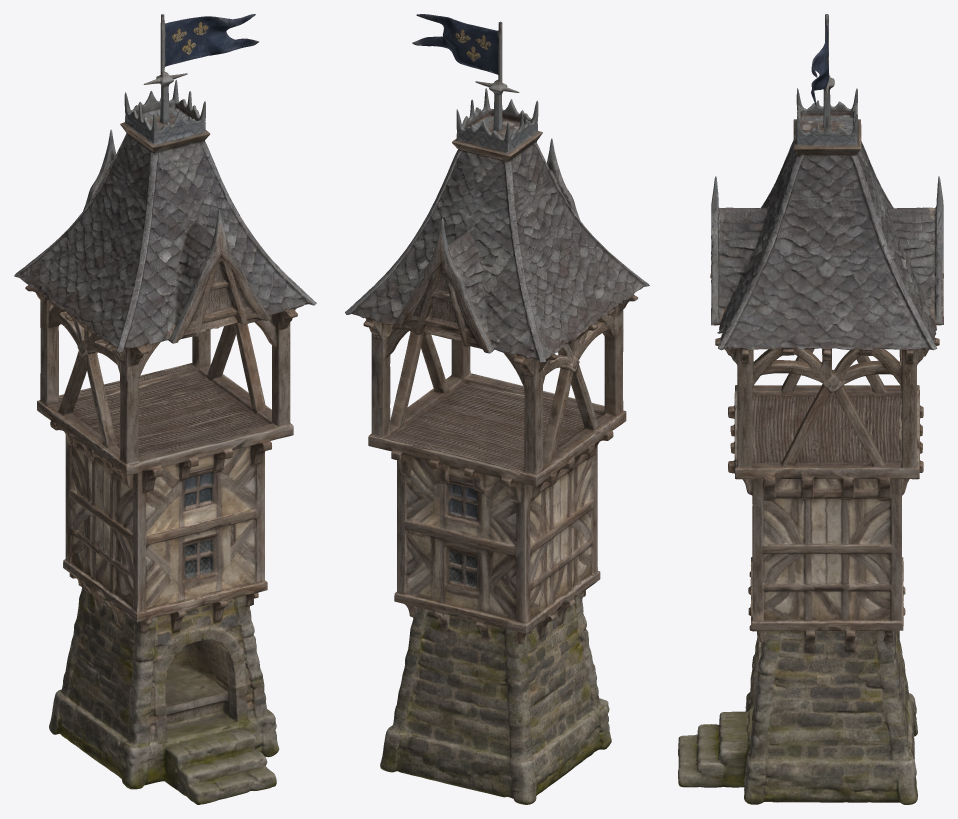
The model's file is belfry.glb.
3 renders of one model, left to right at view 1: azimuth 30°, elevation 25°; view 2: azimuth 150°, elevation 25°; view 3: azimuth 270°, elevation 25°, orthographic. The views are drawn at different scales.
Visible parts, largest first — view 1: belfry; view 2: belfry; view 3: belfry.
Part boxes in pixels (bbox=[...]): belfry: bbox=[14, 14, 316, 804]; belfry: bbox=[345, 14, 649, 804]; belfry: bbox=[678, 14, 943, 804].
Bounding box in the file's own units: 0.5437 × 1.9 × 0.6086.
1 material, 1 textured.
